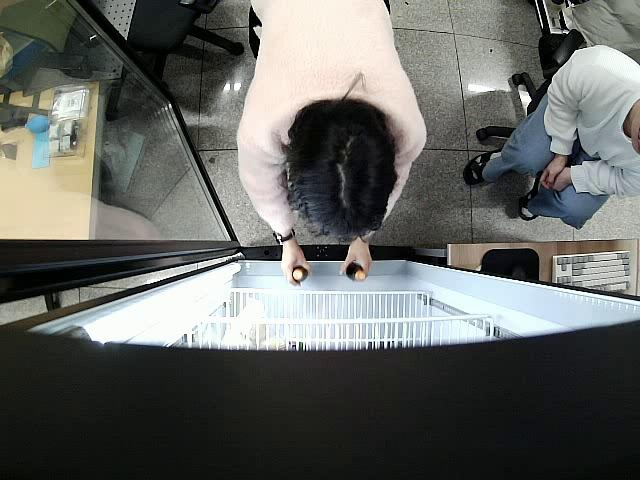00_hand: (279, 247, 311, 287), (339, 242, 372, 277)
17_vita500: (348, 264, 366, 284), (291, 265, 309, 285)
